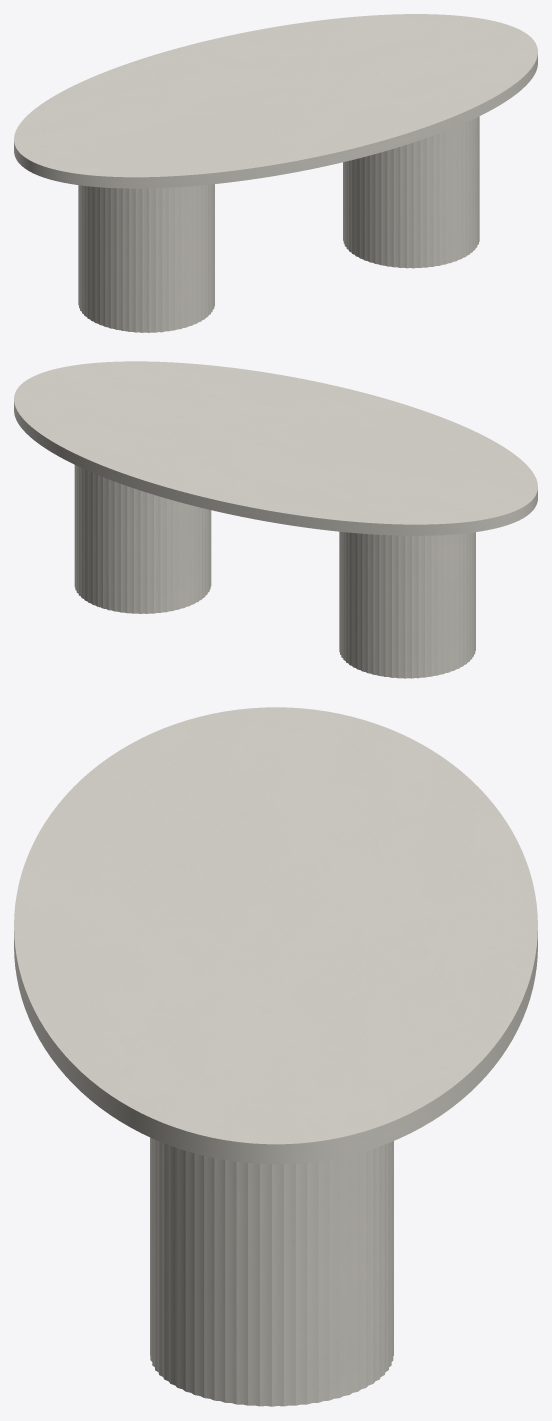
Rendered from pale_ellips_standard_ripplesecond.glb.
3 views of the same model, one above another, from view 1: azimuth 30°, elevation 25°; view 2: azimuth 150°, elevation 25°; view 3: azimuth 270°, elevation 25° (orthographic). The views are drawn at different scales.
Visible parts, largest first — view 1: standard_ellips, ripplesecond; view 2: standard_ellips, ripplesecond; view 3: standard_ellips, ripplesecond.
Part boxes in pixels (left/top/right/bottom): standard_ellips: left=14, top=14, right=537, bottom=188; ripplesecond: left=78, top=116, right=479, bottom=332; standard_ellips: left=14, top=361, right=537, bottom=535; ripplesecond: left=74, top=465, right=475, bottom=678; standard_ellips: left=14, top=707, right=537, bottom=1164; ripplesecond: left=150, top=1137, right=393, bottom=1406.
Size of the model in its own units: 7.5 by 2.5 by 3.8.
1 material, 1 textured.
